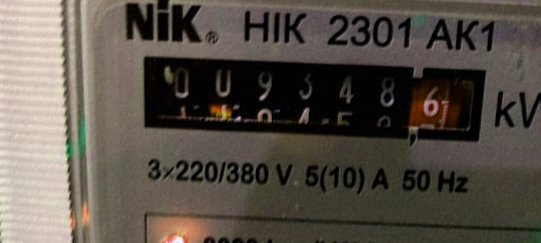0: (210, 64, 233, 101), (169, 65, 191, 101)
3: (292, 69, 315, 101)
4: (332, 70, 354, 108)
6: (419, 83, 442, 118)
8: (375, 74, 396, 108)
9: (253, 67, 273, 102)
screen: (115, 41, 504, 158)
